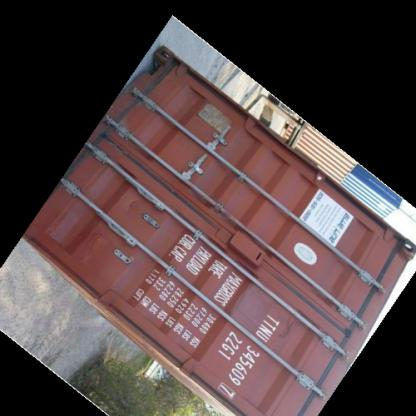Damage: (146, 60, 182, 96), (80, 226, 108, 267), (271, 307, 296, 344), (125, 189, 149, 219)
